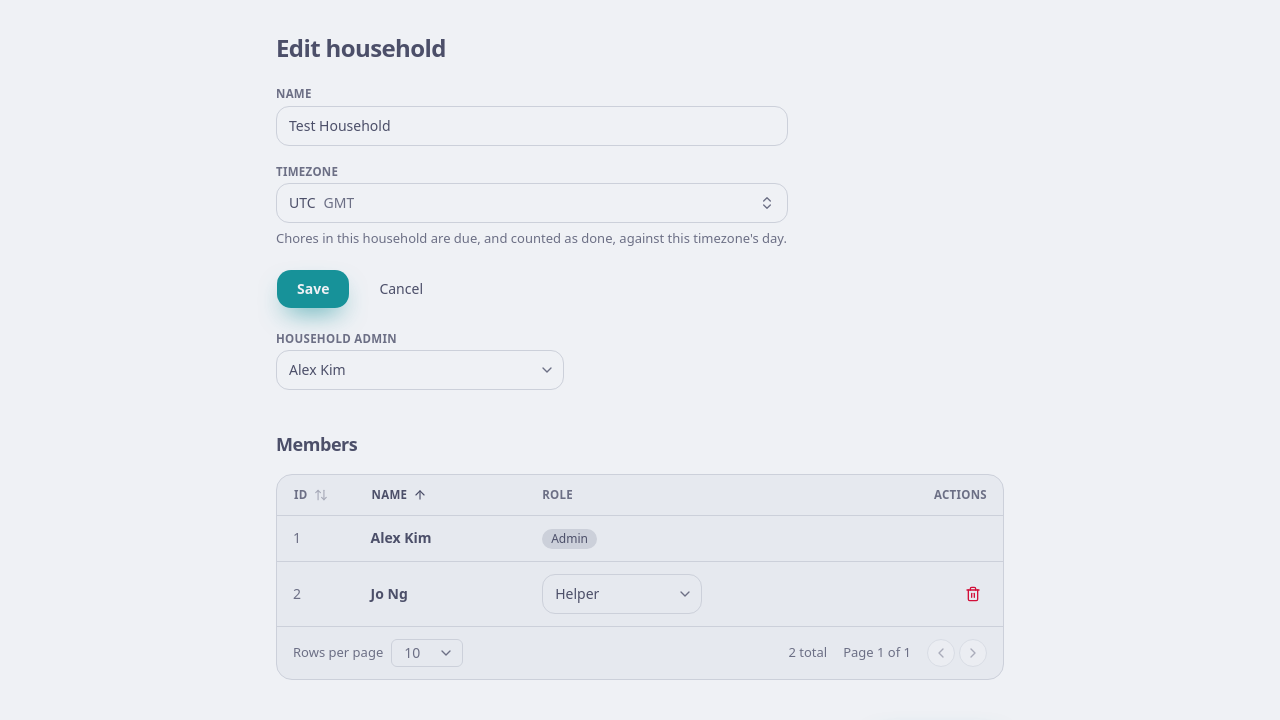
HouseholdEdit › surfaces a refused role change and re-reads the roster
Expected: the text "Jo Ng" is shown, top-left (371, 584), bottom-right (408, 602)
Step 1. Click the dropdown named "Role for Jo Ng" → (622,594), box top-left (542, 574), bottom-right (702, 614)
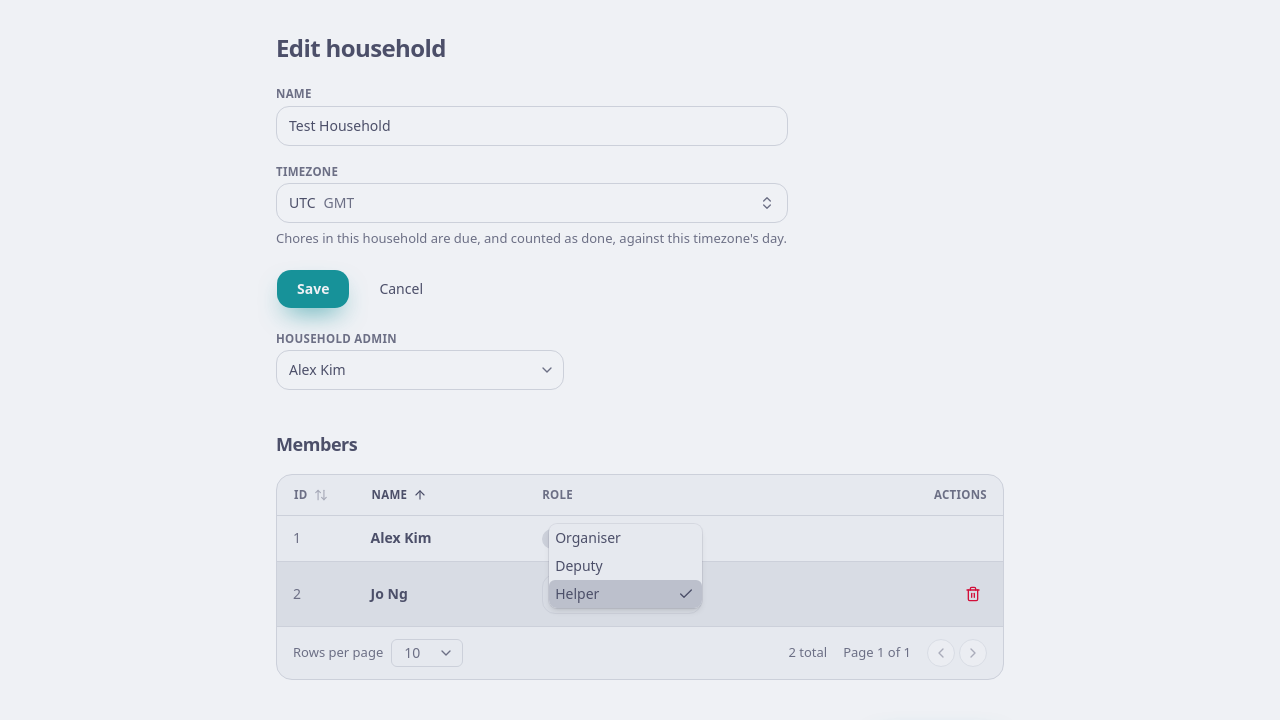
Step 2. Click the option "Organiser" → (588,537), box top-left (555, 528), bottom-right (621, 546)
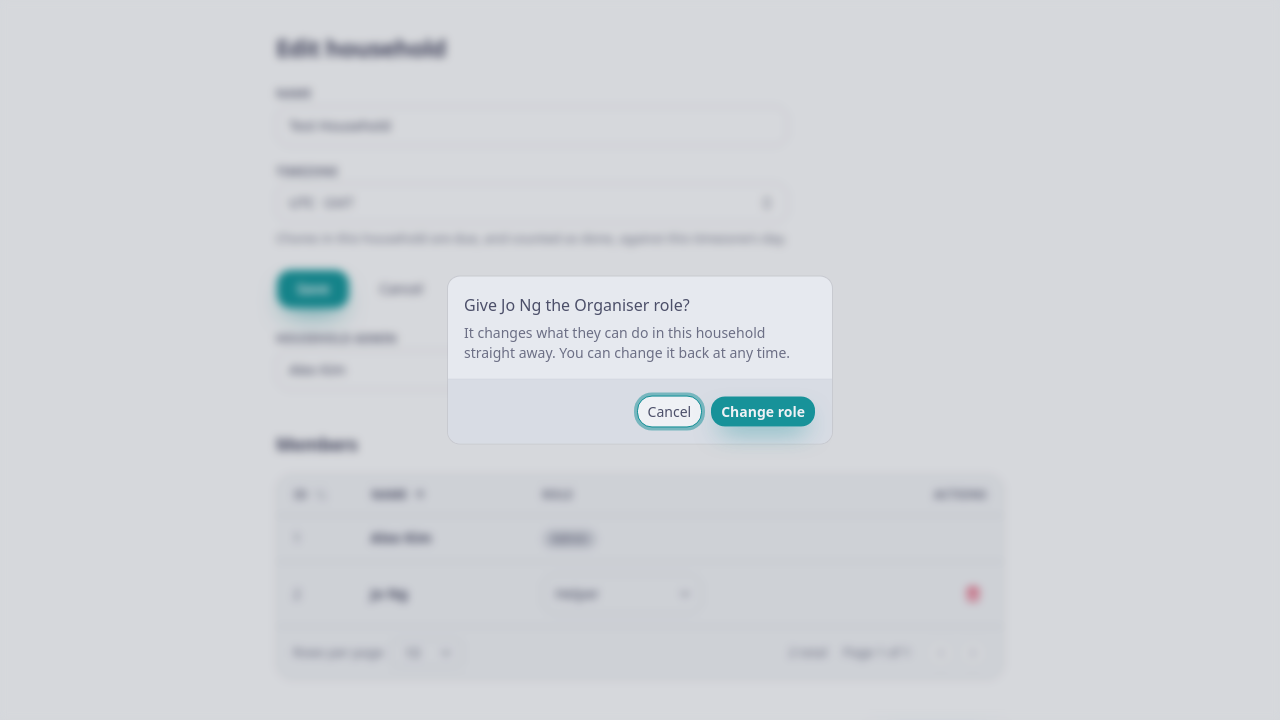
Step 3. Click the button "Change role" → (763,412), box top-left (710, 396), bottom-right (816, 428)
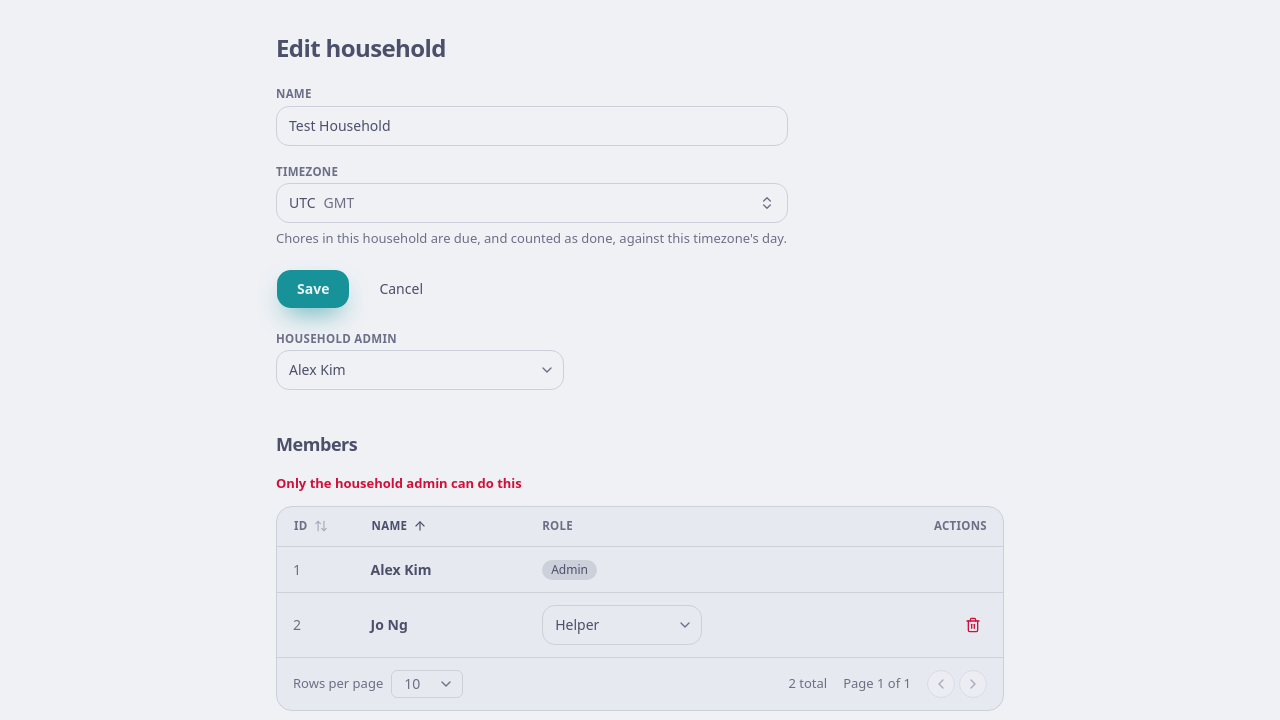
Now the text "Only the household admin can do this" is shown, box top-left (276, 474), bottom-right (522, 492)
